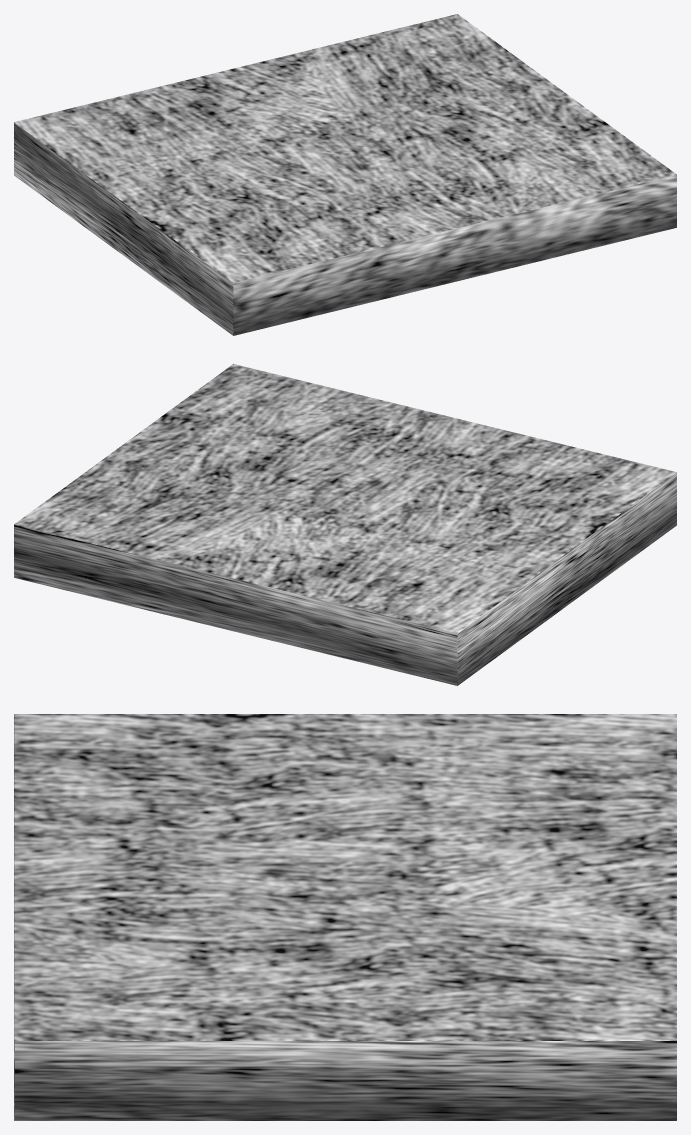
Rendered from techo_paja_4x3.fbx.
3 renders of one model, top to bottom at view 1: azimuth 30°, elevation 25°; view 2: azimuth 150°, elevation 25°; view 3: azimuth 270°, elevation 25°, orthographic. The views are drawn at different scales.
Visible parts, largest first — view 1: techo_paja_4x3; view 2: techo_paja_4x3; view 3: techo_paja_4x3.
Part boxes in pixels (x1,y1,x2,y2): techo_paja_4x3: (14,14,676,335); techo_paja_4x3: (14,364,676,685); techo_paja_4x3: (14,714,676,1120).
Size of the model in its own units: 350 by 40 by 300.
